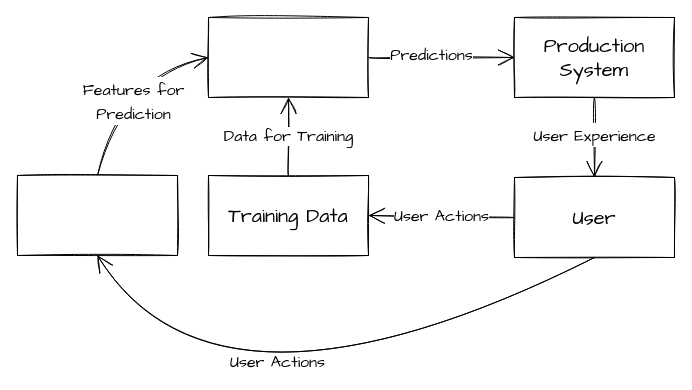
Some shapes in this 692 by 390 pixel diagram are drawn without their labels. The centre of each missing label's shape, as x and y in pixels:
"Model" goes at (x=288, y=57).
"Model Features" goes at (x=97, y=215).
